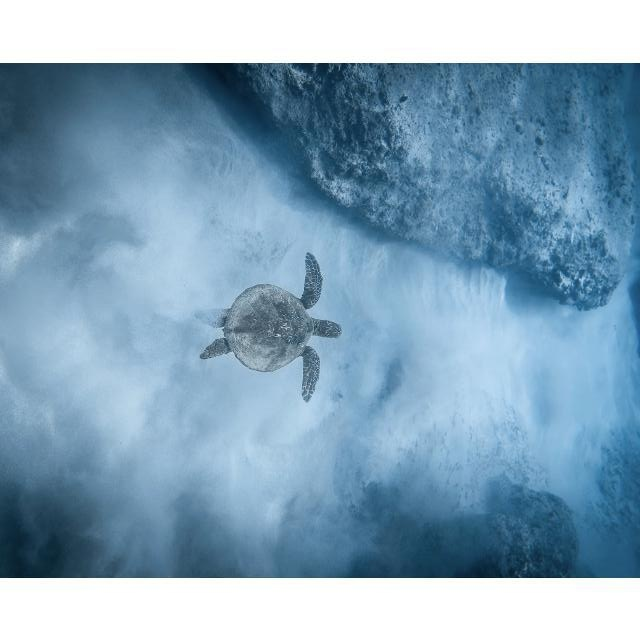turtle: (194, 251, 342, 403)
